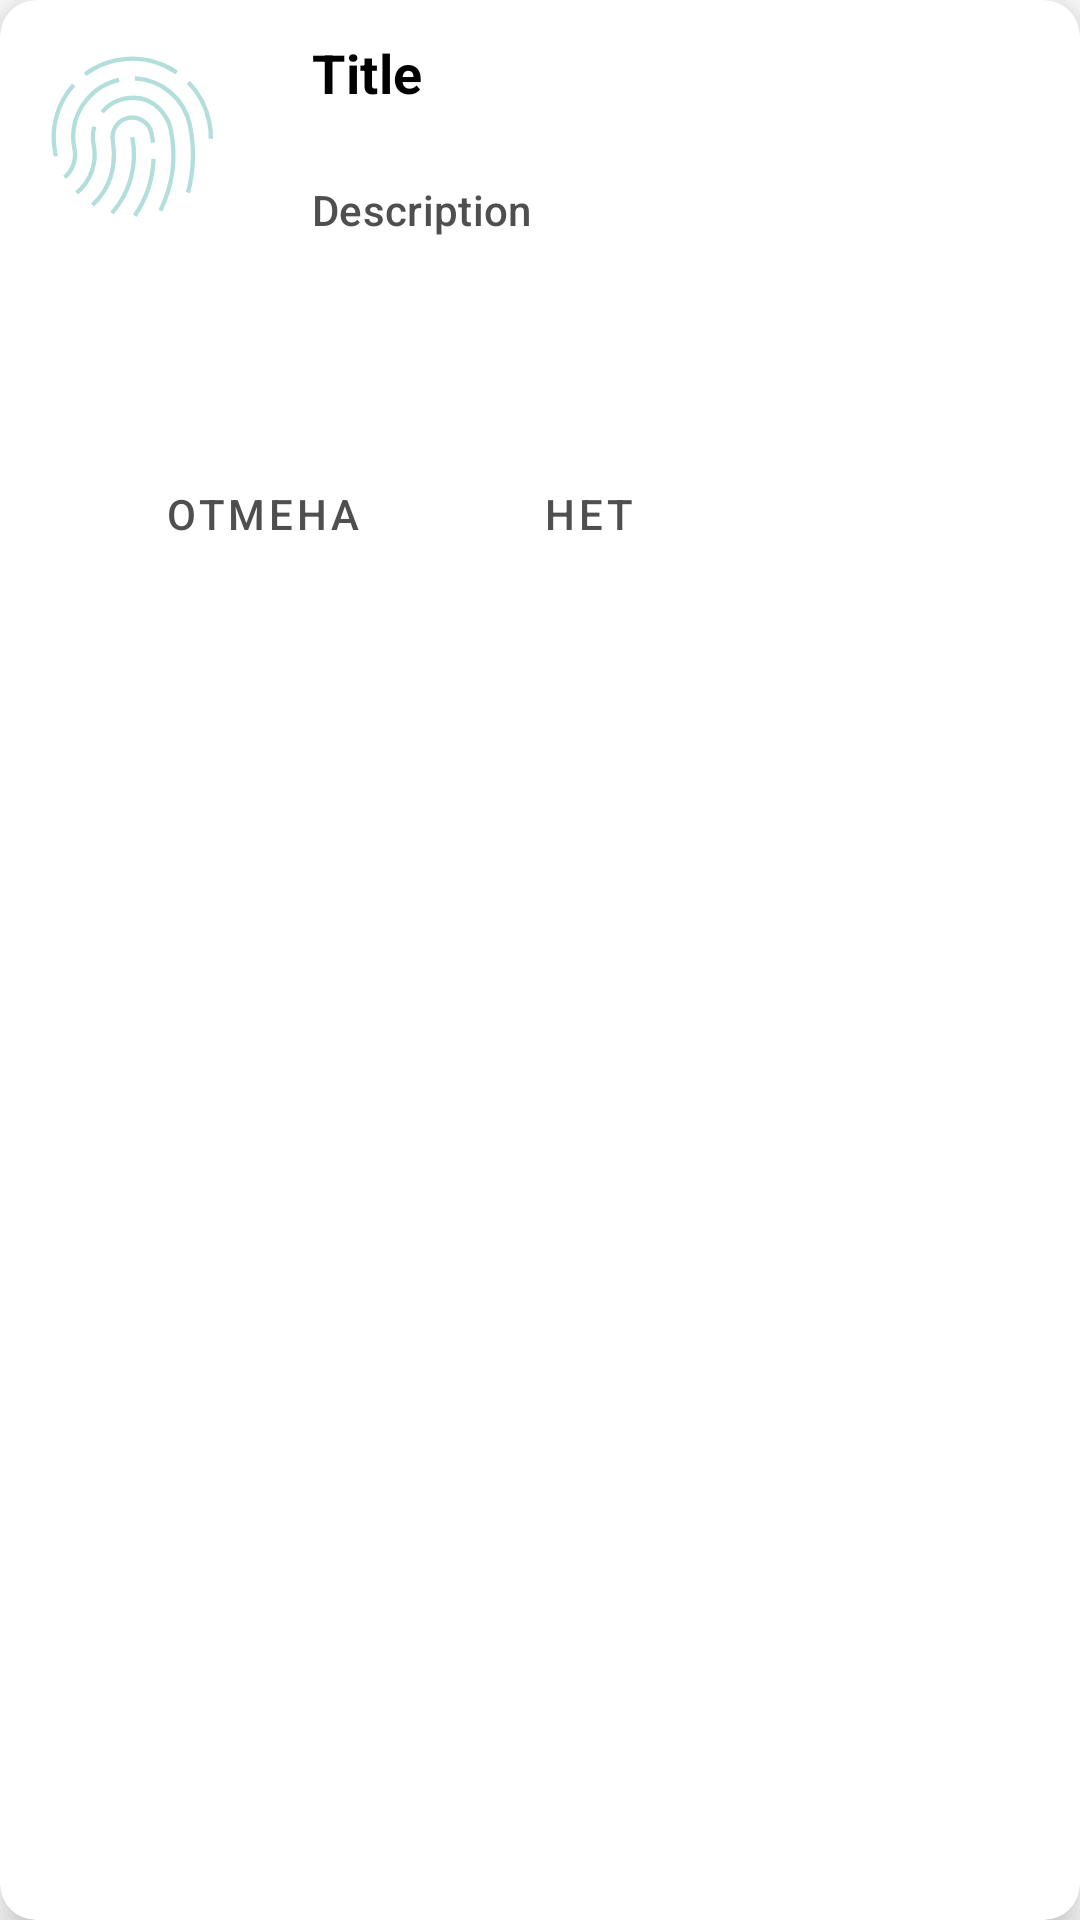

Icons on this 1080*1920 Android screen, each with the point to tap as (x,y):
fingerprint: (132,136)
